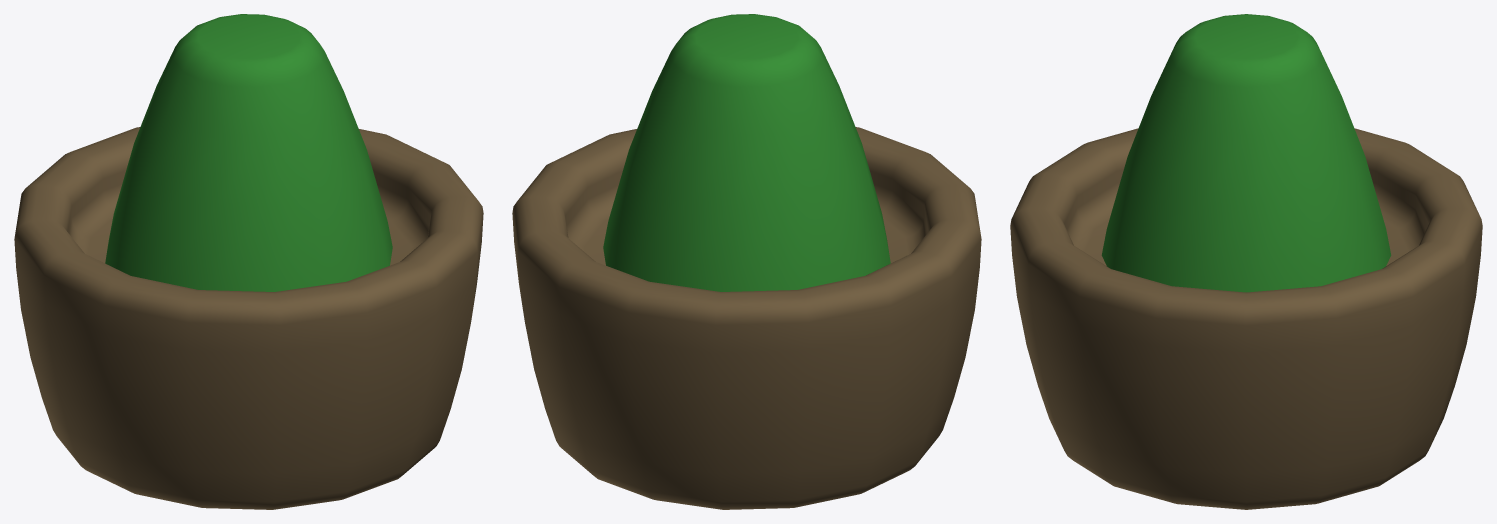
The model's file is small-pot-transformed.glb.
3 views of the same model, side by side, from view 1: azimuth 30°, elevation 25°; view 2: azimuth 150°, elevation 25°; view 3: azimuth 270°, elevation 25° (orthographic).
Visible parts, largest first — view 1: pot.001; view 2: pot.001; view 3: pot.001.
Boxes of the visible parts, x1,y1,x2,y2 form: pot.001: (14,14,483,509); pot.001: (512,14,981,509); pot.001: (1010,14,1482,509).
Bounding box in the file's own units: 2.67 × 2.48 × 2.67.
